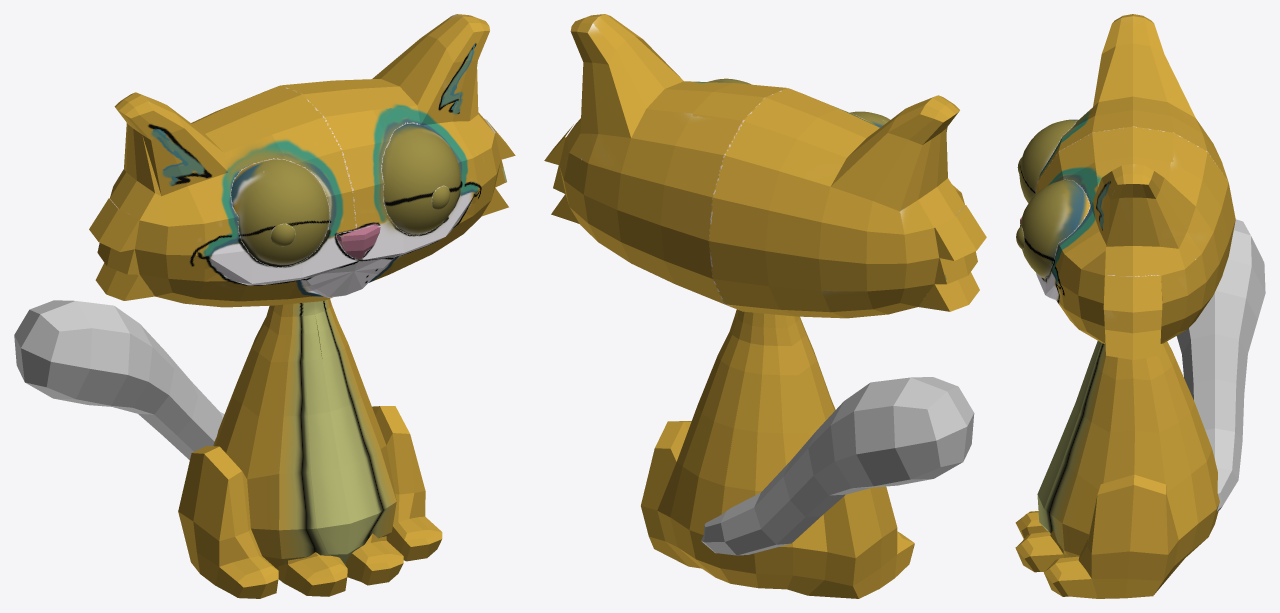
File: 220325_1821--idle-cat.fbx
3 views of the same model, side by side, from view 1: azimuth 30°, elevation 25°; view 2: azimuth 150°, elevation 25°; view 3: azimuth 270°, elevation 25° (orthographic). The views are drawn at different scales.
Visible parts, largest first — view 1: Cube.002_Cube.004, Cube.001_Cube.007; view 2: Cube.002_Cube.004, Cube.001_Cube.007; view 3: Cube.002_Cube.004, Cube.001_Cube.007.
Part boxes in pixels (box(x1,y1,x2,y2)): Cube.002_Cube.004: box(89, 14, 515, 598); Cube.001_Cube.007: box(14, 300, 224, 460); Cube.002_Cube.004: box(544, 14, 986, 598); Cube.001_Cube.007: box(701, 377, 974, 555); Cube.002_Cube.004: box(1015, 14, 1235, 598); Cube.001_Cube.007: box(1176, 219, 1265, 511).
Size of the model in its own units: 476 by 506 by 248.
